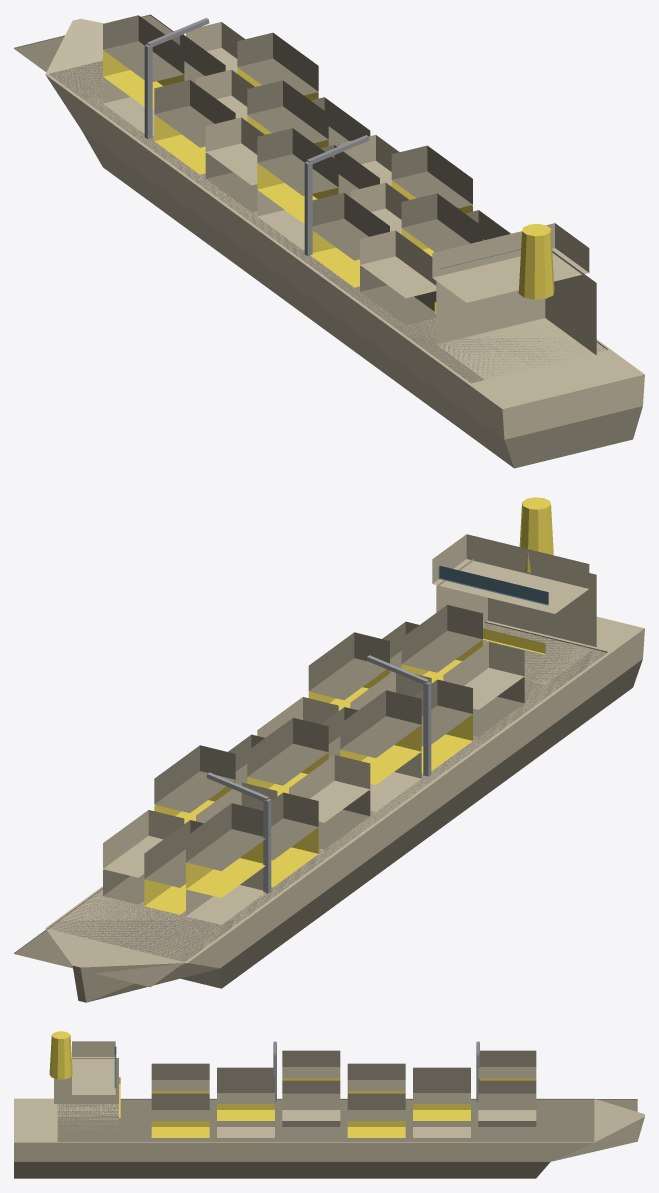
The model's file is industrial_cargo_ship.glb.
The picture shows the model from 3 angles, top to bottom: view 1: azimuth 30°, elevation 25°; view 2: azimuth 150°, elevation 25°; view 3: azimuth 270°, elevation 25°; orthographic projection. The views are drawn at different scales.
Parts seen in each view (by area): view 1: industrial_cargo_ship; view 2: industrial_cargo_ship; view 3: industrial_cargo_ship.
Boxes of the visible parts, <box> form: industrial_cargo_ship: <box>14,14,644,468</box>; industrial_cargo_ship: <box>14,497,644,1002</box>; industrial_cargo_ship: <box>14,1031,644,1178</box>.
Bounding box in the file's own units: 14.4 × 19 × 87.
